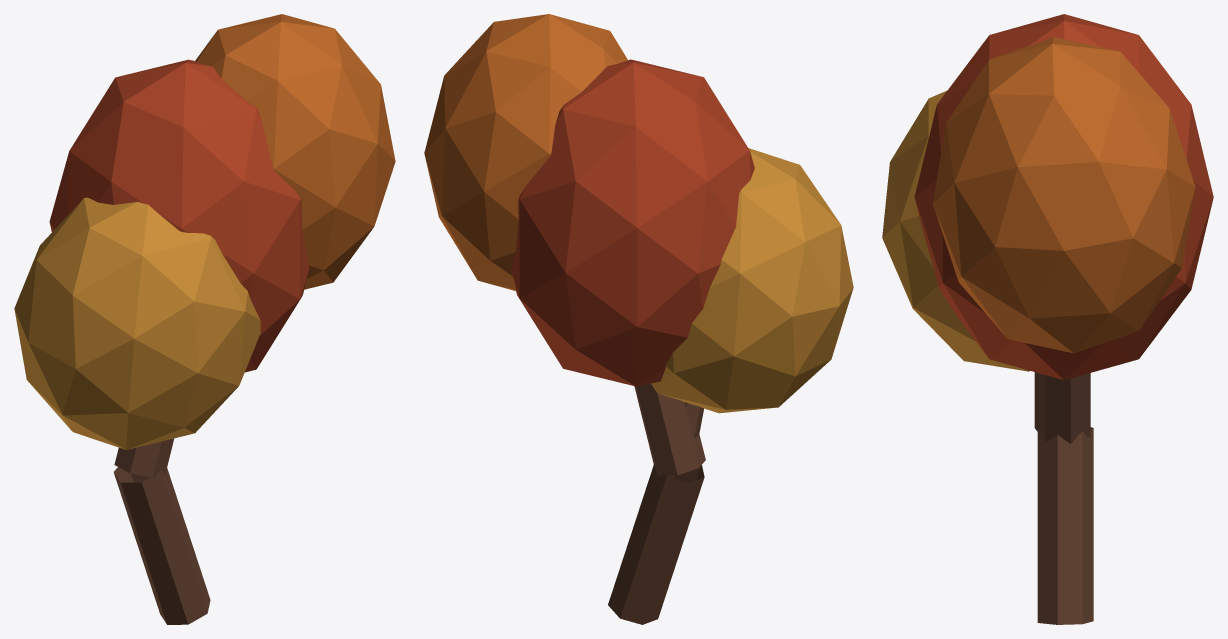
3 renders of one model, left to right at view 1: azimuth 30°, elevation 25°; view 2: azimuth 150°, elevation 25°; view 3: azimuth 270°, elevation 25°, orthographic. The views are drawn at different scales.
Parts seen in each view (by area): view 1: T07_橙叶圆冠树; view 2: T07_橙叶圆冠树; view 3: T07_橙叶圆冠树.
Part boxes in pixels (x1,y1,x2,y2): T07_橙叶圆冠树: (14, 14, 395, 624); T07_橙叶圆冠树: (424, 14, 853, 624); T07_橙叶圆冠树: (882, 14, 1213, 624).
Bounding box in the file's own units: 1.45 × 2.13 × 1.01.
